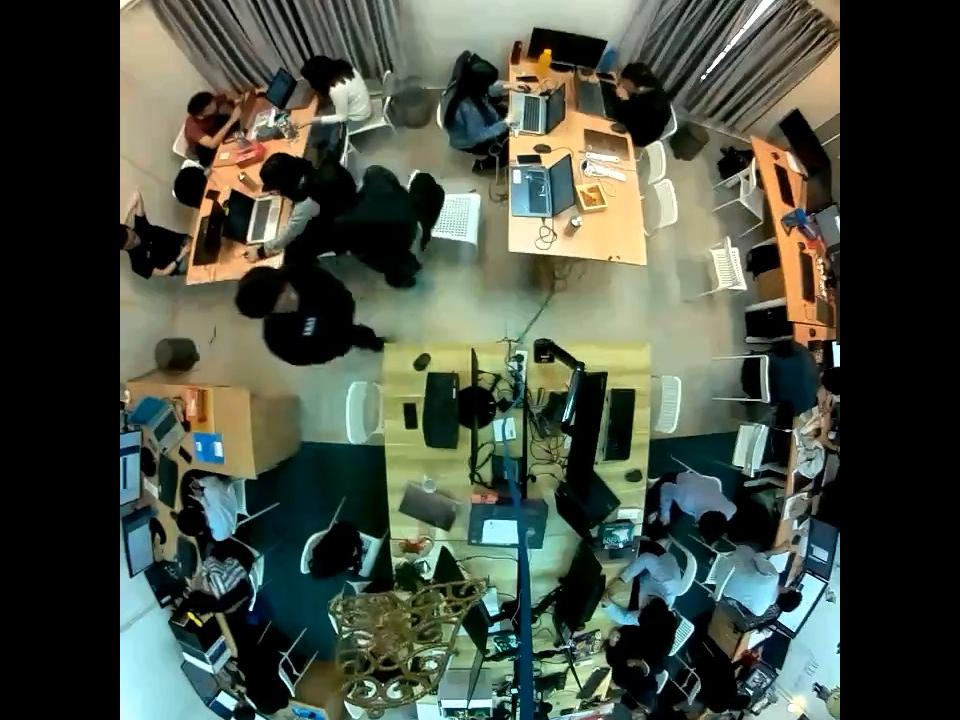name-tag: (302, 316, 318, 336)
